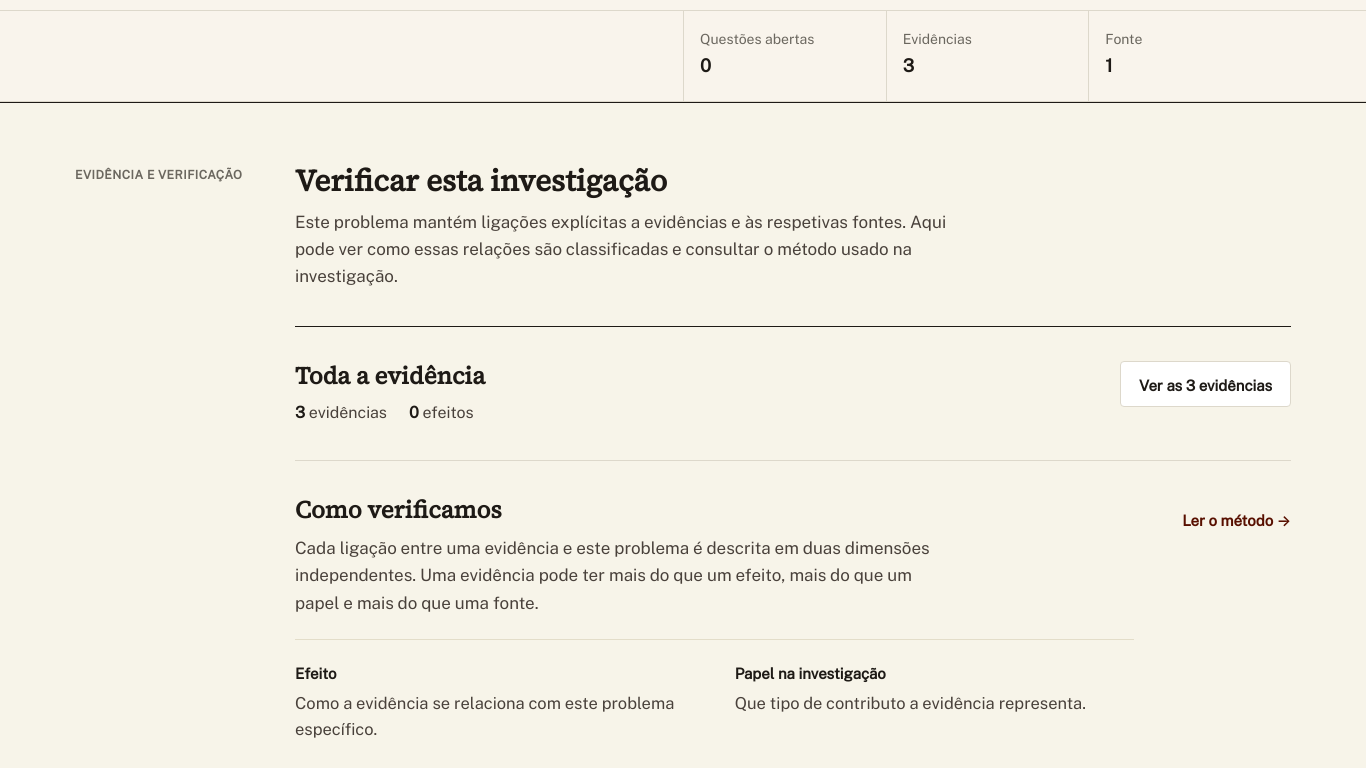
PrbDetailsPresentation — audit evidence drawer › labels authored evidence intervals and omits unknown temporal dates
The width and height of the screenshot is (1366, 768).
(page scrolled)
What coordinates should you click on to do the following:
click the button "Ver as 3 evidências"
I would click on:
 (1206, 384)
Its box is left=1120, top=362, right=1291, bottom=408.
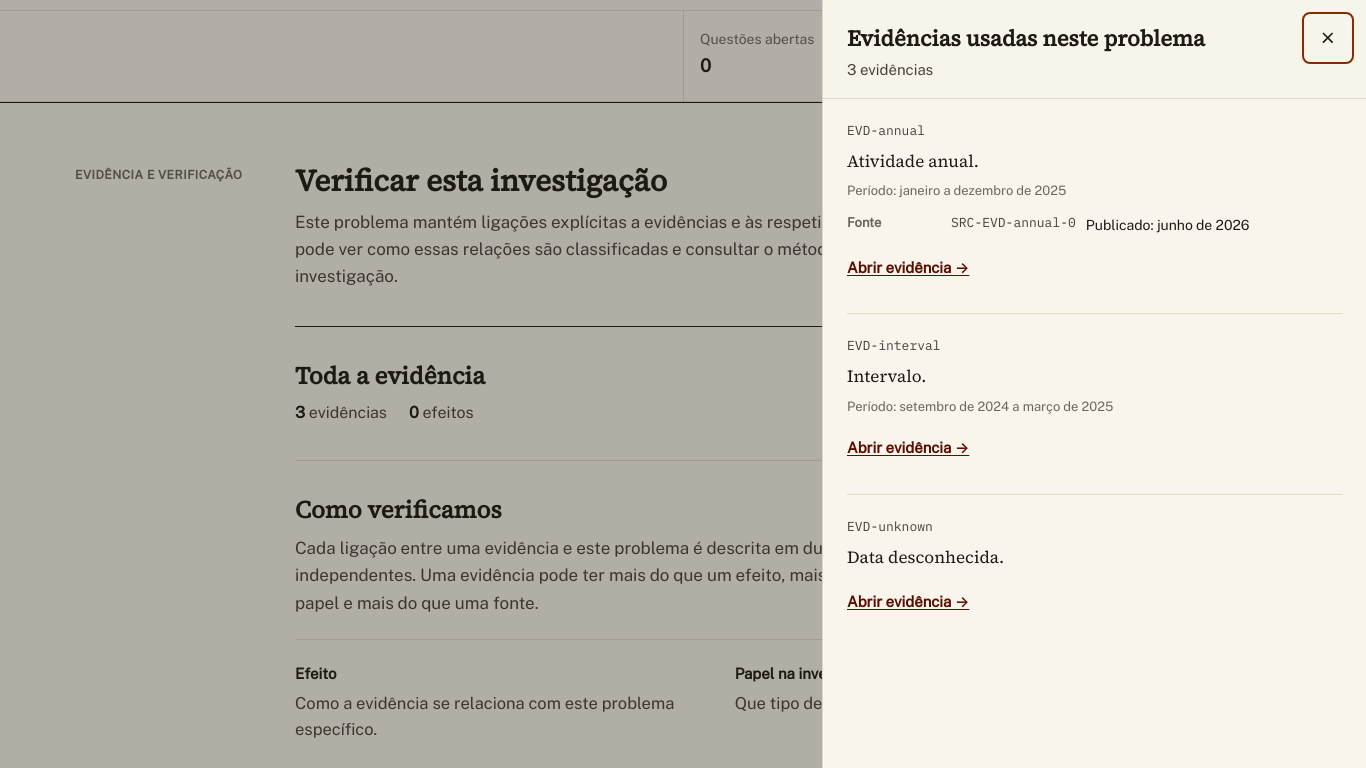
Expected: the text "Período: janeiro a dezembro de 2025" is shown, left=847, top=183, right=1066, bottom=198
Expected: the text "Publicado: junho de 2026" is shown, left=1086, top=215, right=1250, bottom=235
Expected: the text "Período: setembro de 2024 a março de 2025" is shown, left=847, top=399, right=1113, bottom=414
